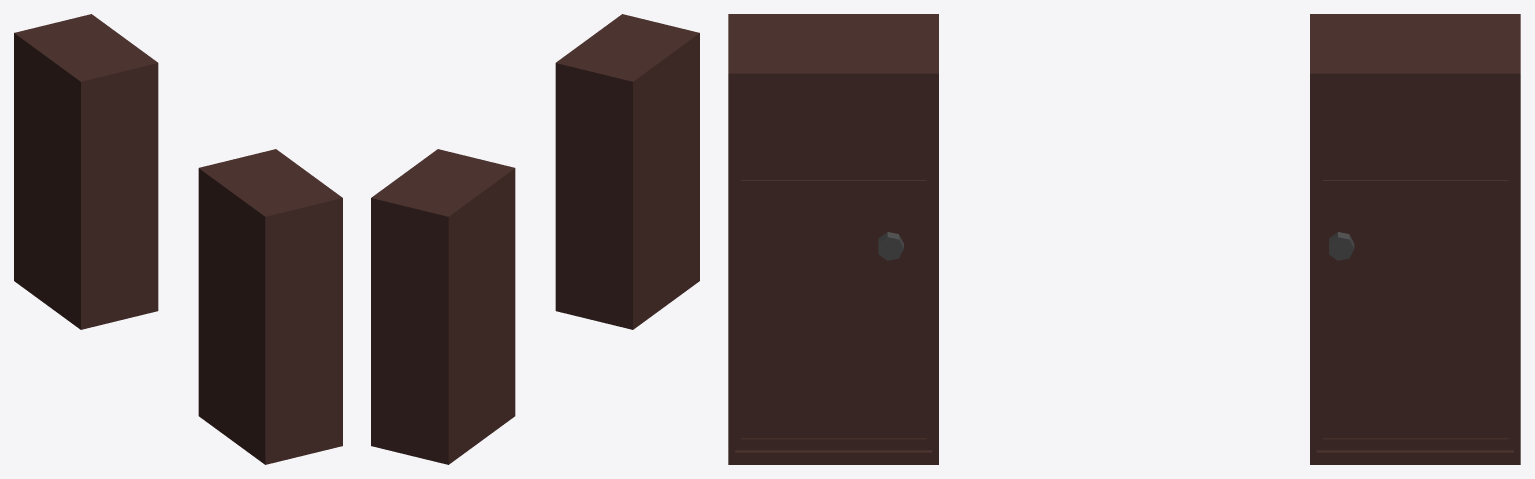
The model's file is cabinet.fbx.
3 views of the same model, side by side, from view 1: azimuth 30°, elevation 25°; view 2: azimuth 150°, elevation 25°; view 3: azimuth 270°, elevation 25° (orthographic). The views are drawn at different scales.
Visible parts, largest first — view 1: Cylinder; view 2: Cylinder; view 3: Cylinder.
Part boxes in pixels (<box>): Cylinder: <box>14,14,342,464</box>; Cylinder: <box>371,14,699,464</box>; Cylinder: <box>728,14,1520,464</box>.
Size of the model in its own units: 30.41 by 89.99 by 165.
